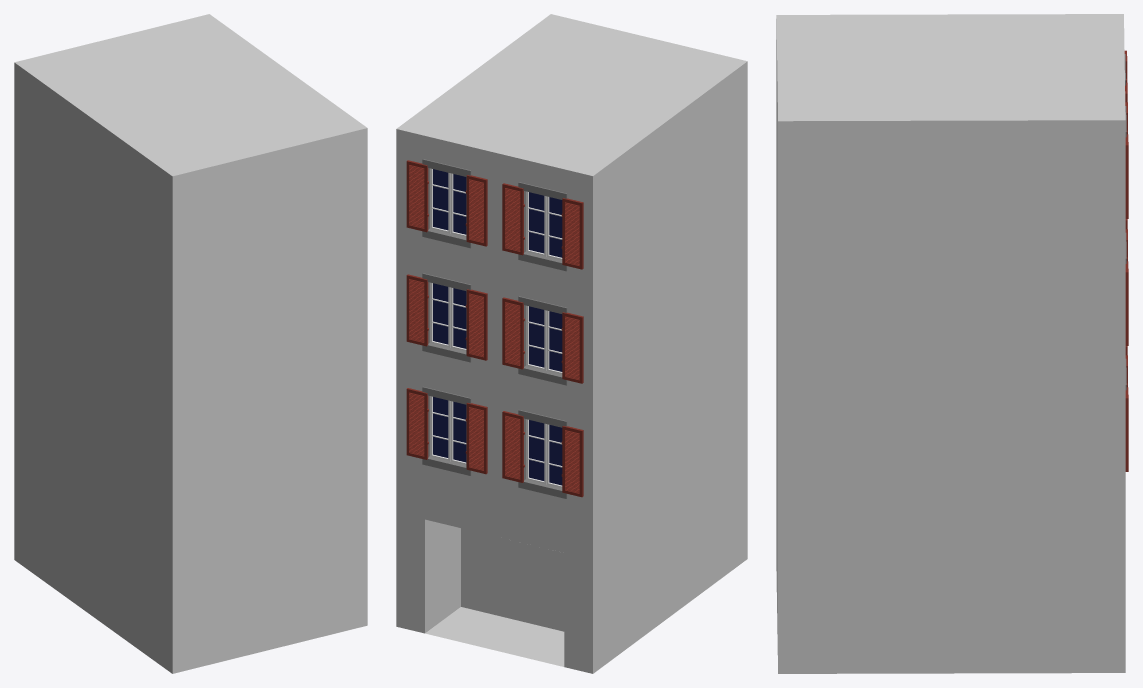
Rendered from Unbekannt1.fbx.
The picture shows the model from 3 angles, left to right: view 1: azimuth 30°, elevation 25°; view 2: azimuth 150°, elevation 25°; view 3: azimuth 270°, elevation 25°; orthographic projection. The views are drawn at different scales.
Parts seen in each view (by area): view 1: Cube.8892; view 2: Cube.8892, Cube.8889, Cube.8877, Cube.8883, Cube.8880, Cube.8886, Cube.8874, Cube.8894, Cube.8898, Cube.8902, Cube.8904, Cube.8900 (+19 smaller); view 3: Cube.8892.
Boxes of the visible parts, x1,y1,x2,y2 form: Cube.8892: [14, 14, 367, 673]; Cube.8892: [396, 14, 747, 673]; Cube.8889: [529, 420, 562, 485]; Cube.8877: [529, 192, 562, 257]; Cube.8883: [529, 306, 562, 371]; Cube.8880: [433, 283, 466, 348]; Cube.8886: [433, 397, 466, 462]; Cube.8874: [433, 169, 466, 234]; Cube.8894: [406, 160, 428, 232]; Cube.8898: [406, 274, 428, 346]; Cube.8902: [406, 388, 428, 459]; Cube.8904: [502, 411, 524, 482]; Cube.8900: [502, 297, 524, 369]; Cube.8892: [776, 14, 1125, 673].
Size of the model in its own units: 603 by 1451 by 837.
